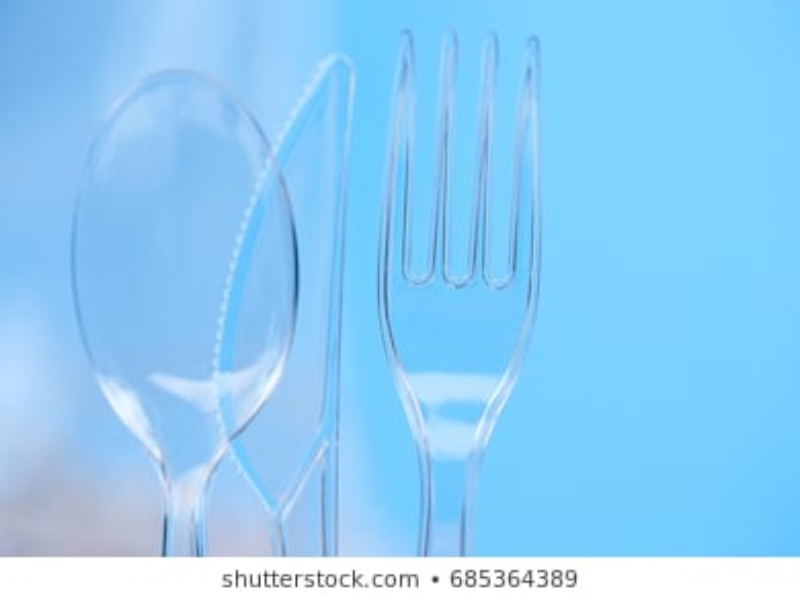plastic-silverware: (66, 64, 303, 554), (376, 22, 549, 555), (210, 40, 358, 556)
